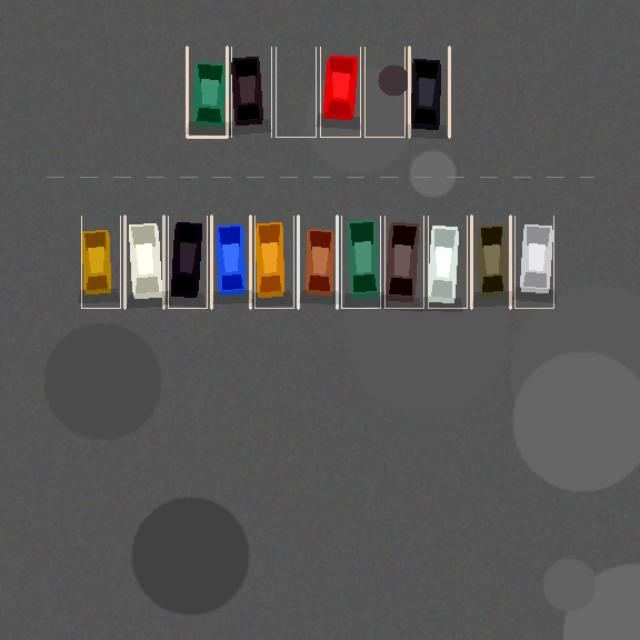space-empty: (276, 47, 316, 137), (364, 47, 404, 137)
space-occupied: (187, 47, 227, 137), (231, 47, 271, 137), (320, 47, 360, 137), (409, 47, 449, 137), (81, 216, 120, 308), (124, 216, 163, 308), (168, 216, 207, 308), (211, 216, 250, 308), (254, 216, 293, 308), (298, 216, 337, 308), (341, 216, 380, 308), (384, 216, 423, 308), (428, 216, 467, 308), (471, 216, 510, 308), (514, 216, 553, 308)
